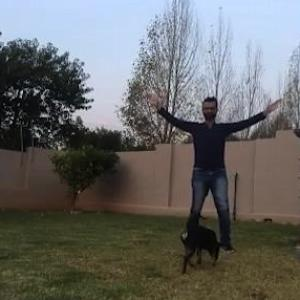takeoff: (149, 80, 299, 266)
